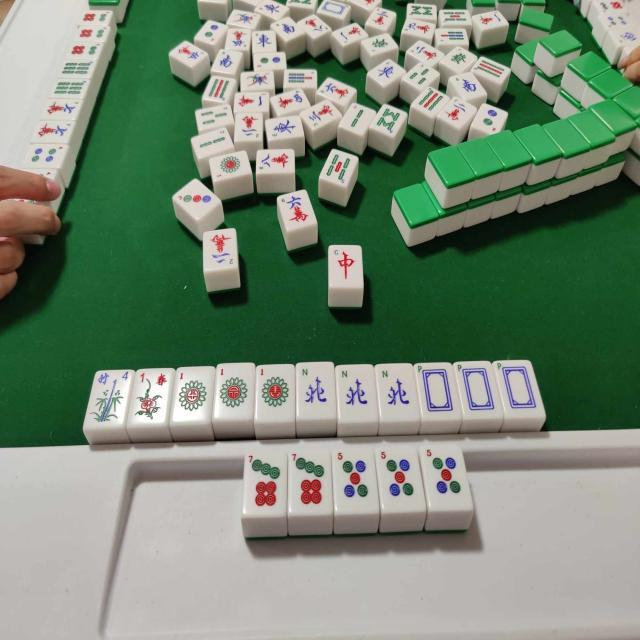bf4: (90, 371, 130, 424)
bs1: (134, 369, 168, 422)
hdw: (416, 363, 454, 418), (497, 361, 537, 412), (456, 363, 496, 413)
hwn: (379, 367, 412, 415), (338, 368, 372, 412), (298, 366, 329, 412)
sd1: (257, 366, 290, 416), (178, 368, 210, 418), (217, 366, 250, 414)
sd5: (426, 446, 464, 502), (336, 452, 369, 507), (380, 450, 416, 500)
sd7: (290, 451, 326, 511), (246, 453, 282, 513)
